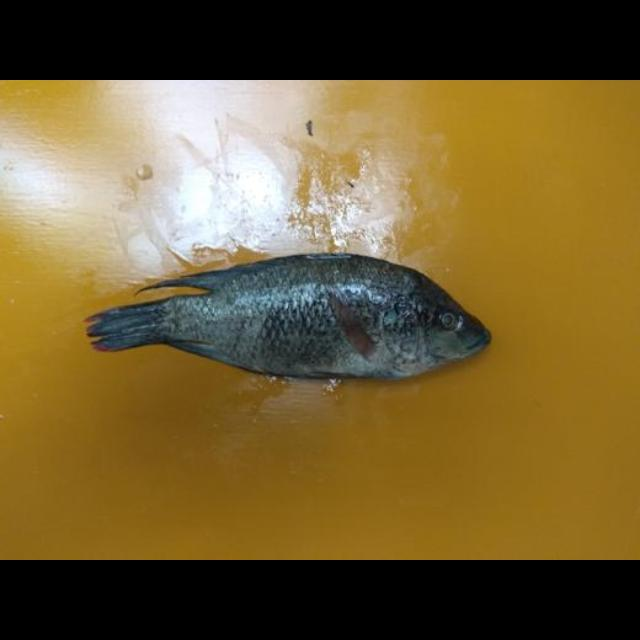Tilapia: (88, 252, 494, 382)
